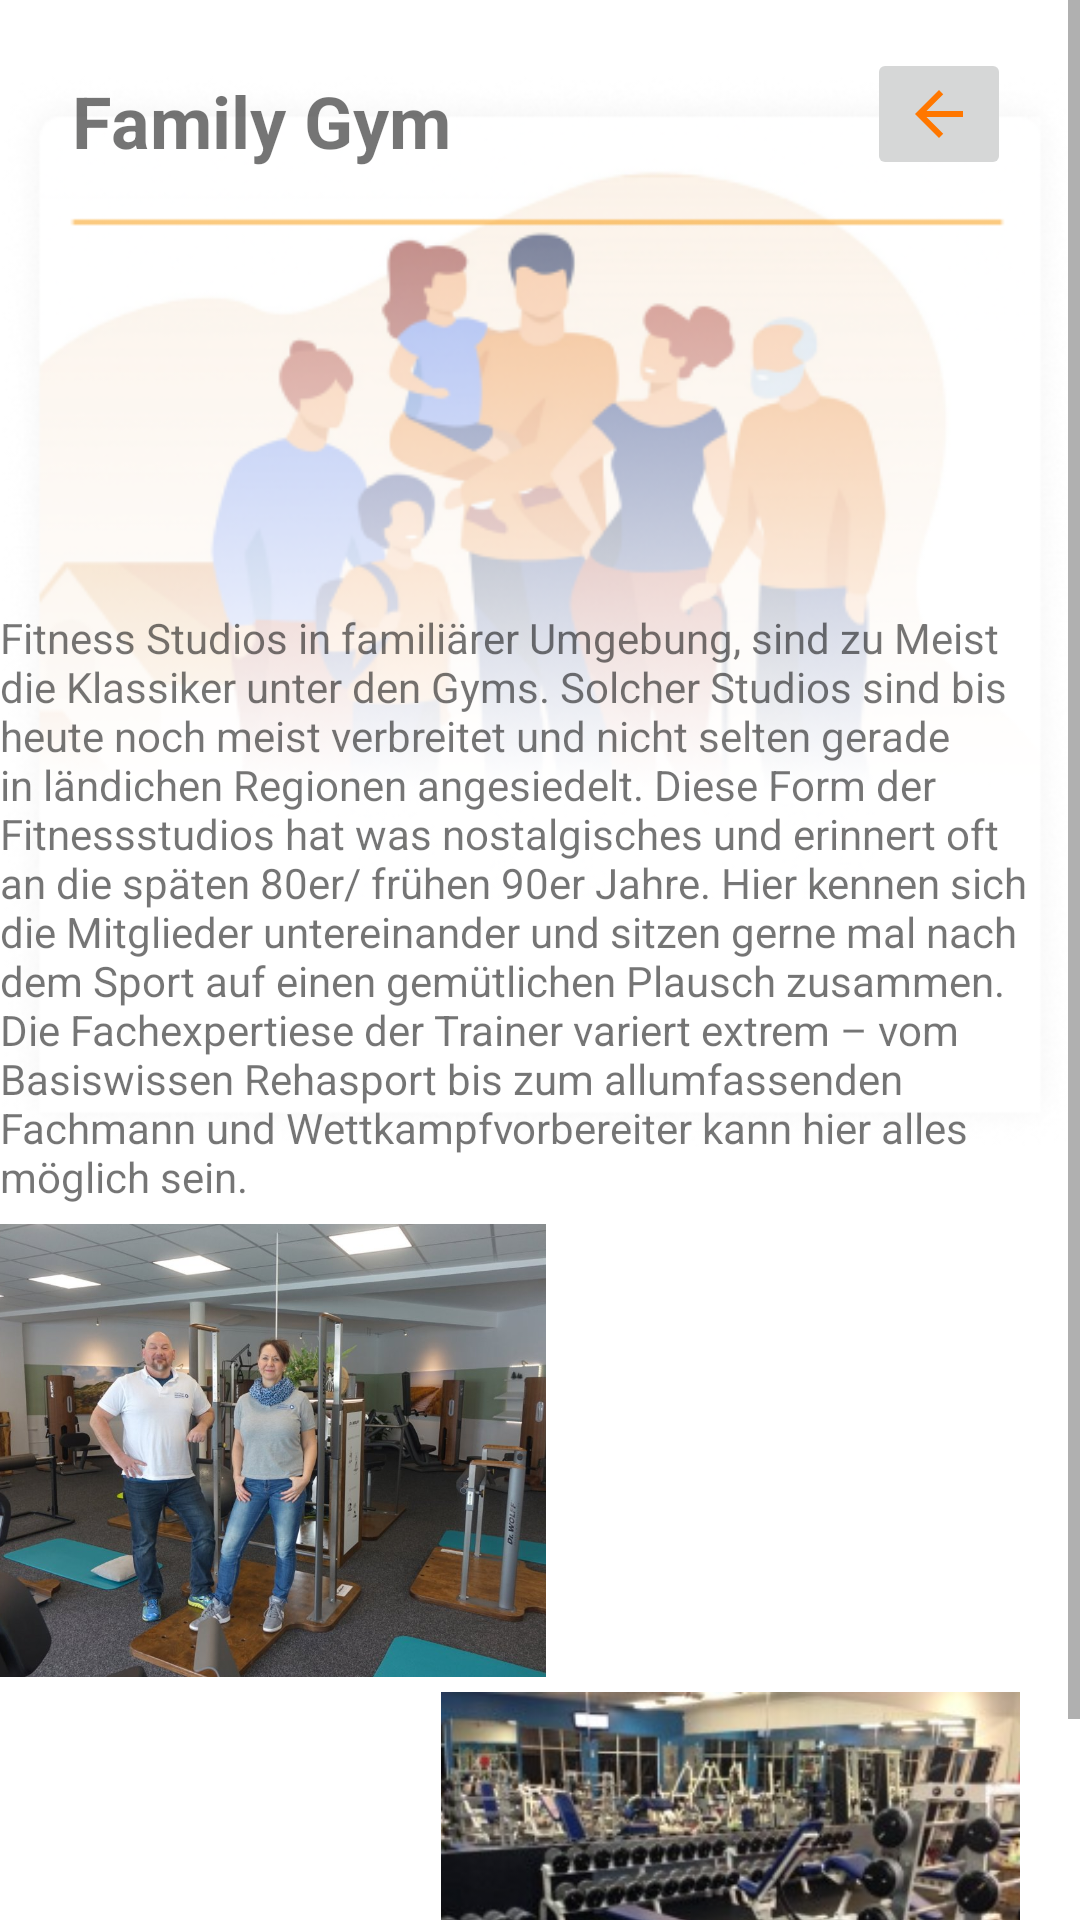

Where to tap for icons on this 1080×1920 app screen, as (x,y):
arrow back: (939,114)
